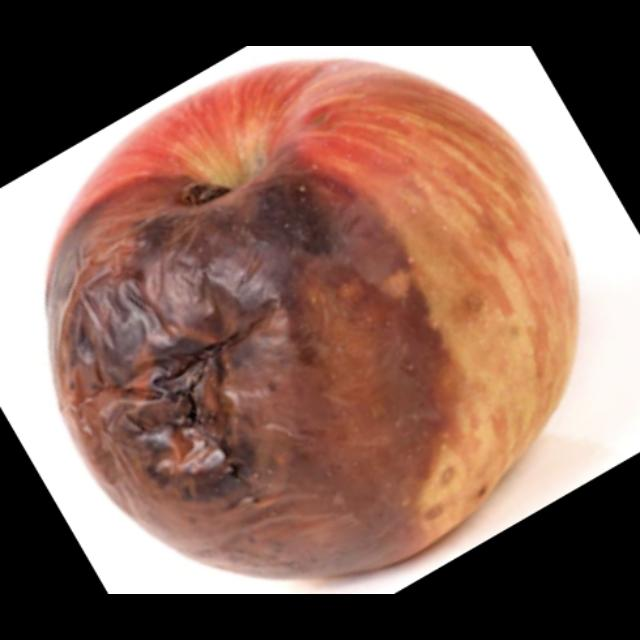Apel Segar: (115, 61, 576, 455)
Apel Tidak Segar: (42, 141, 500, 585)
